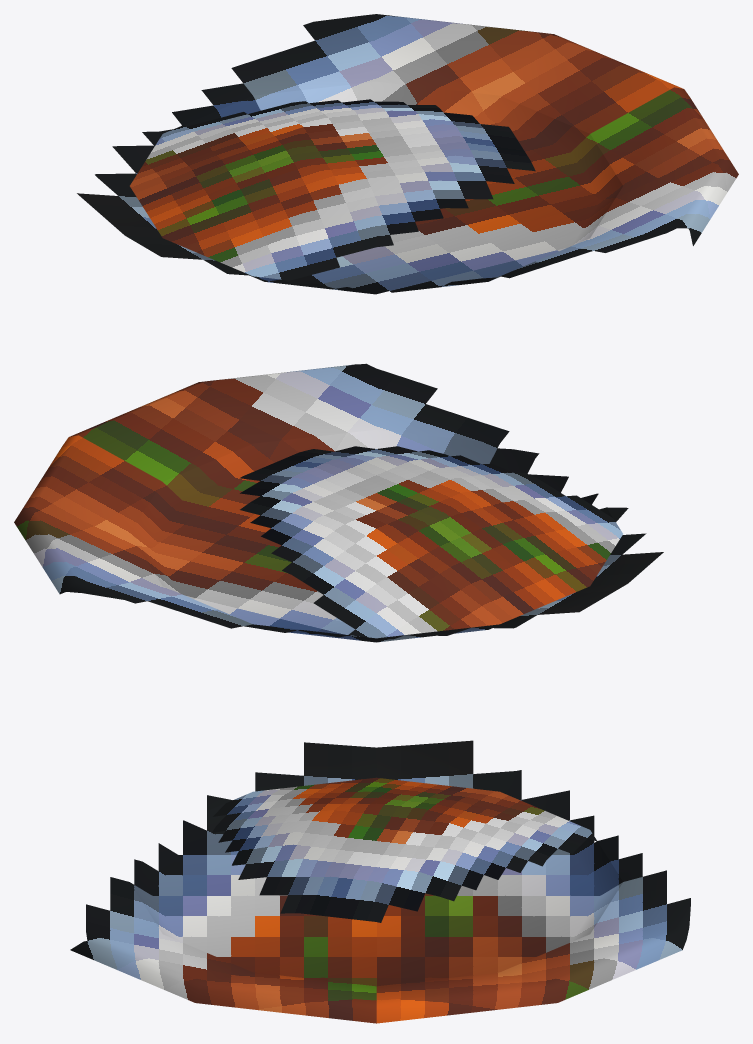
Rendered from GroundFullPlate.fbx.
3 renders of one model, top to bottom at view 1: azimuth 30°, elevation 25°; view 2: azimuth 150°, elevation 25°; view 3: azimuth 270°, elevation 25°, orthographic.
Parts seen in each view (by area): view 1: Plate; view 2: Plate; view 3: Plate.
Boxes of the visible parts, x1=… form: Plate: x1=77, y1=14, x2=738, y2=294; Plate: x1=14, y1=363, x2=663, y2=642; Plate: x1=70, y1=740, x2=690, y2=1023.
Size of the model in its own units: 0.578 by 0.0941 by 0.578.
